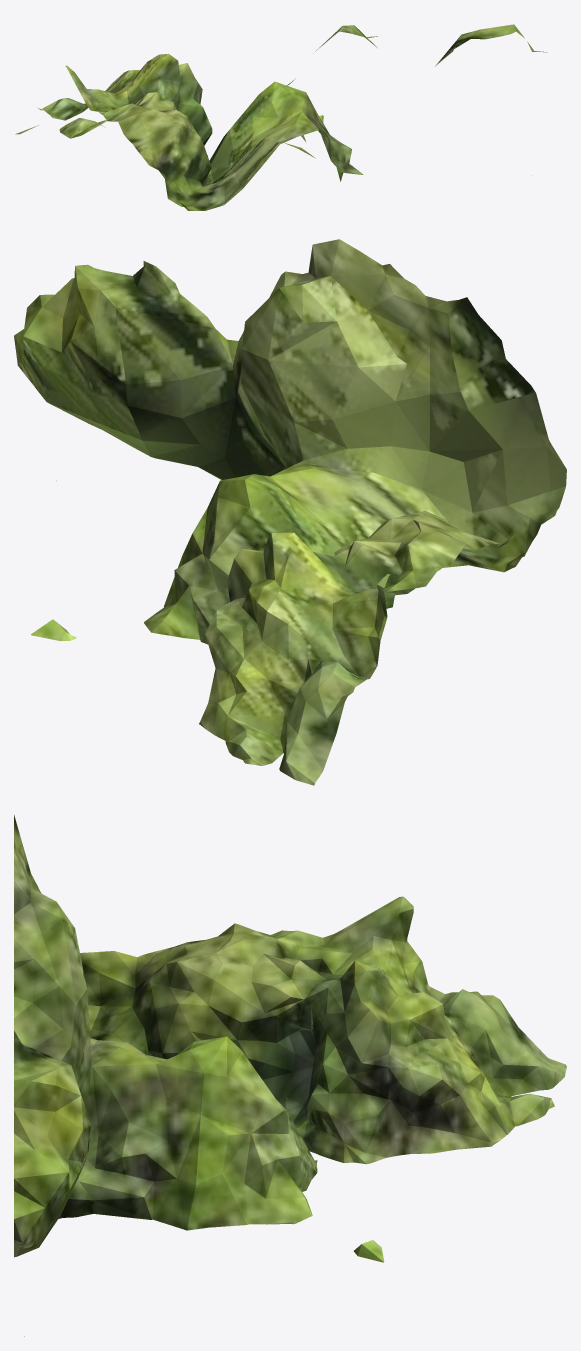
3 renders of one model, top to bottom at view 1: azimuth 30°, elevation 25°; view 2: azimuth 150°, elevation 25°; view 3: azimuth 270°, elevation 25°, orthographic. The views are drawn at different scales.
Size of the model in its own units: 16.76 by 8.87 by 13.26.
Materials: 1 (1 with a texture image).
